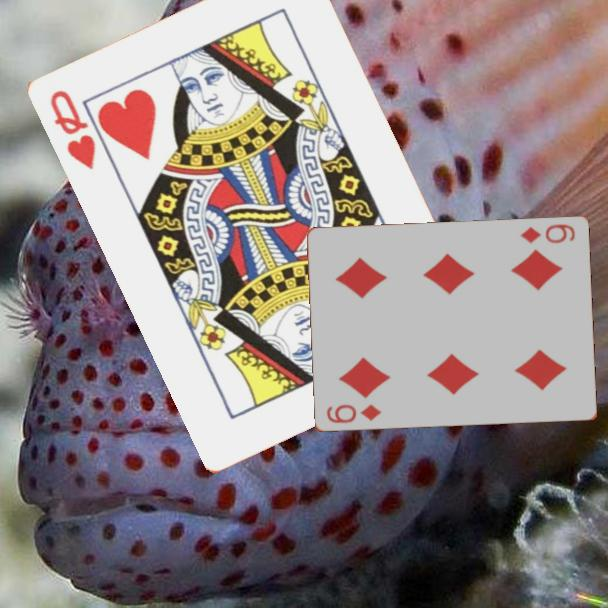d06: (516, 221, 578, 247), (323, 401, 384, 427)
h12: (47, 86, 100, 173)
